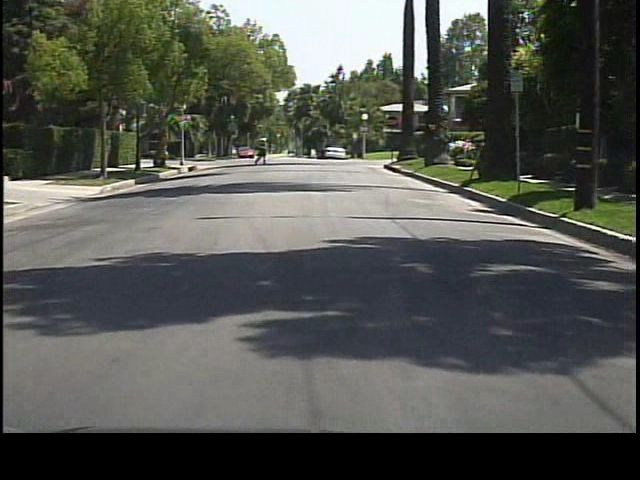person: (256, 135, 269, 167)
